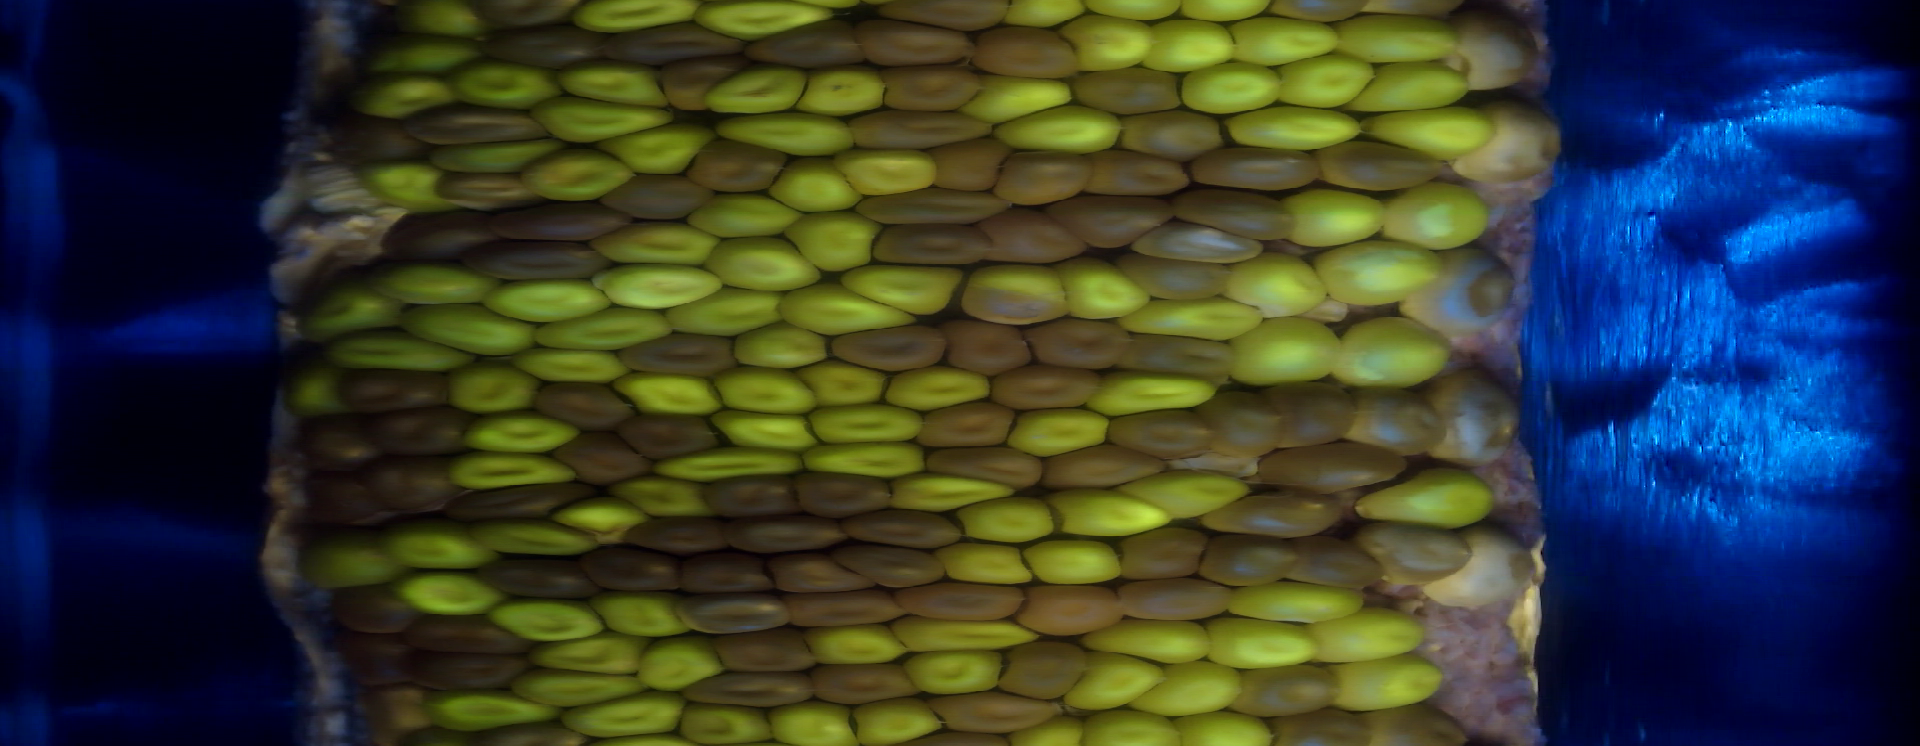fluorescent: (1354, 462, 1496, 527), (1331, 316, 1446, 391), (1314, 235, 1446, 299), (1236, 320, 1344, 390), (1333, 9, 1460, 69), (410, 293, 527, 356), (1199, 609, 1319, 670), (1324, 650, 1446, 710), (528, 303, 673, 353), (1386, 180, 1488, 251), (1127, 467, 1251, 524), (326, 327, 473, 375), (1051, 481, 1171, 539), (714, 111, 855, 160), (1357, 107, 1496, 156), (540, 86, 671, 137), (1081, 616, 1215, 666), (1224, 254, 1329, 317), (1360, 56, 1471, 116), (844, 257, 960, 314), (962, 262, 1067, 325), (509, 661, 645, 709), (1226, 579, 1358, 628), (1282, 183, 1384, 246), (784, 282, 912, 332), (561, 51, 675, 108), (381, 516, 493, 572), (830, 140, 939, 197), (1089, 366, 1213, 416), (714, 238, 827, 293), (997, 104, 1123, 153), (593, 220, 719, 269), (482, 276, 607, 325), (1127, 295, 1261, 341), (944, 492, 1057, 546), (1063, 9, 1160, 71), (658, 445, 807, 485), (1220, 107, 1360, 149), (781, 207, 876, 271), (1140, 12, 1238, 73), (893, 611, 1044, 650), (594, 260, 721, 306), (1315, 611, 1424, 665), (465, 405, 578, 457), (1021, 529, 1124, 586), (800, 620, 913, 670), (672, 285, 786, 334), (562, 690, 678, 737), (767, 691, 867, 746), (302, 533, 398, 590), (804, 401, 926, 446), (771, 156, 861, 217), (1180, 61, 1280, 116), (708, 62, 807, 118), (1229, 12, 1341, 61), (1058, 255, 1144, 318), (493, 597, 607, 644), (454, 54, 562, 104), (300, 285, 413, 333), (698, 1, 835, 40), (1010, 403, 1109, 457), (1067, 650, 1155, 710), (600, 586, 692, 643), (446, 448, 580, 488), (689, 190, 800, 238), (620, 369, 726, 418), (435, 686, 552, 730), (528, 146, 631, 196), (605, 122, 704, 174), (938, 535, 1035, 588), (710, 409, 818, 456), (539, 628, 647, 675), (1278, 53, 1375, 104), (969, 70, 1073, 118), (803, 437, 926, 478), (797, 62, 887, 118), (887, 364, 997, 408), (354, 69, 451, 119), (481, 518, 604, 557), (1144, 665, 1242, 714), (680, 696, 773, 746), (446, 361, 536, 413), (729, 323, 831, 369), (720, 365, 809, 416), (800, 356, 889, 408), (378, 265, 489, 306), (887, 472, 1015, 507), (617, 472, 708, 522), (636, 632, 718, 687), (433, 135, 564, 169), (858, 691, 940, 744), (913, 646, 1002, 695), (382, 36, 489, 76), (367, 156, 444, 211), (517, 345, 629, 380), (573, 2, 698, 33), (402, 575, 498, 614), (398, 2, 486, 45), (571, 492, 640, 545), (1078, 710, 1180, 746), (1176, 709, 1273, 746)
nonfluorescent: (1423, 245, 1518, 339), (1473, 99, 1556, 198), (1436, 367, 1521, 464), (1261, 441, 1404, 496), (1051, 190, 1173, 254), (475, 229, 610, 287), (1445, 4, 1536, 88), (1313, 138, 1449, 195), (1360, 514, 1462, 588), (967, 23, 1089, 85), (1352, 385, 1447, 461), (1213, 485, 1349, 538), (1177, 185, 1296, 245), (1457, 528, 1536, 619), (850, 12, 973, 69), (924, 687, 1071, 734), (479, 548, 591, 608), (1233, 661, 1349, 719), (500, 195, 636, 244), (1135, 214, 1267, 265), (600, 20, 749, 64), (871, 220, 1004, 269), (481, 17, 602, 71), (921, 443, 1042, 497), (1202, 387, 1286, 465), (853, 183, 1005, 225), (982, 206, 1092, 265), (408, 99, 546, 146), (1194, 145, 1324, 194), (1018, 578, 1120, 639), (609, 167, 715, 225), (1109, 403, 1210, 464), (555, 423, 651, 485), (1112, 249, 1233, 298), (751, 18, 863, 71), (940, 314, 1033, 377), (1087, 145, 1191, 201), (411, 608, 530, 657), (334, 363, 449, 413), (714, 624, 820, 677), (369, 402, 468, 459), (789, 464, 891, 519), (307, 457, 387, 528), (724, 508, 845, 555), (1288, 535, 1386, 593), (831, 539, 947, 588), (389, 206, 493, 260), (689, 138, 784, 197), (880, 59, 981, 114), (993, 148, 1093, 203), (584, 543, 682, 599), (683, 669, 816, 710), (1007, 635, 1091, 699), (677, 587, 784, 638), (1036, 446, 1167, 488), (677, 541, 771, 599), (767, 545, 872, 597), (1079, 62, 1179, 116), (1120, 575, 1231, 624), (851, 107, 993, 145), (1120, 330, 1236, 376), (831, 323, 947, 370), (1275, 379, 1356, 445), (1031, 317, 1128, 372), (775, 582, 899, 625), (898, 583, 1029, 624), (1119, 107, 1220, 159), (458, 481, 593, 521), (367, 454, 454, 514), (414, 646, 523, 693), (1202, 528, 1296, 583), (846, 510, 962, 554), (996, 363, 1100, 412), (324, 113, 421, 165), (703, 472, 803, 522), (626, 333, 733, 380), (1363, 706, 1487, 746), (814, 657, 918, 704), (629, 404, 718, 461), (920, 402, 1015, 453), (535, 377, 629, 429), (338, 624, 411, 688), (623, 512, 726, 557), (331, 583, 415, 638), (656, 53, 730, 111), (1124, 528, 1207, 579), (433, 167, 531, 208), (933, 137, 1008, 191), (302, 408, 369, 467), (1266, 710, 1367, 746), (348, 690, 433, 725)
